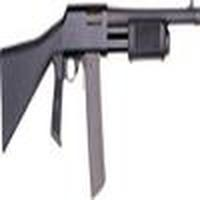gun: (1, 6, 199, 161)
